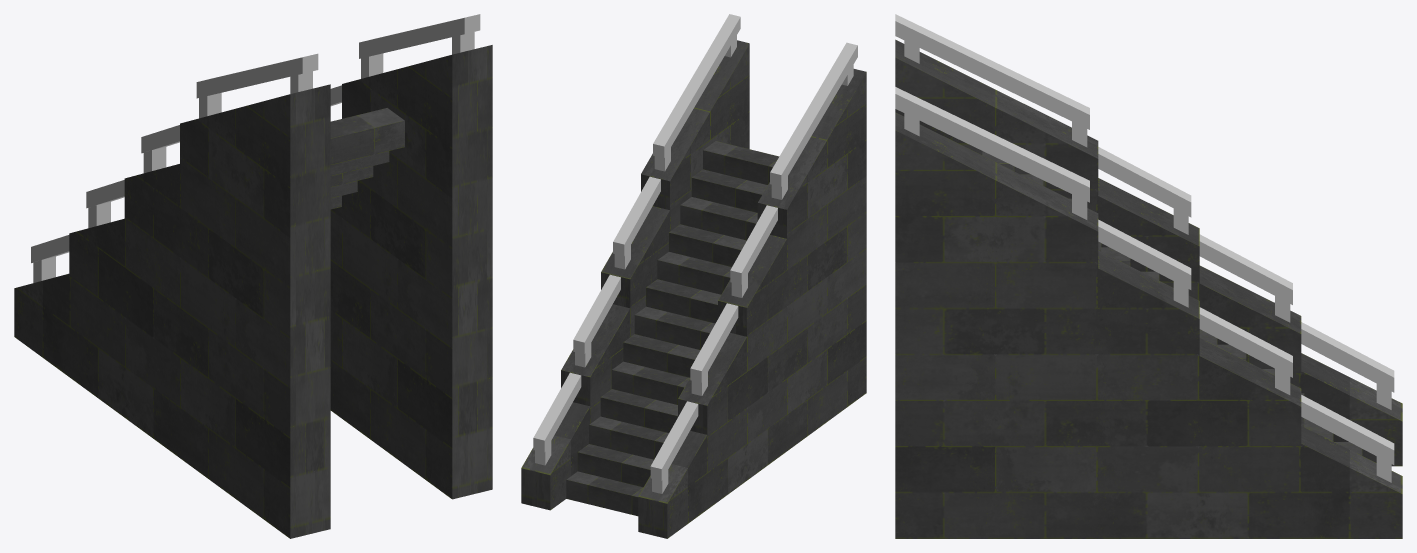
File: Stairs.fbx
The picture shows the model from 3 angles, left to right: view 1: azimuth 30°, elevation 25°; view 2: azimuth 150°, elevation 25°; view 3: azimuth 270°, elevation 25°; orthographic projection. The views are drawn at different scales.
Parts seen in each view (by area): view 1: Cube.004, Cube.005, Cube.003; view 2: Cube.004, Cube.003, Cube.005; view 3: Cube.004, Cube.005, Cube.003.
Part boxes in pixels (x1=…): Cube.004: x1=14, y1=45, x2=492, y2=538; Cube.005: x1=31, y1=14, x2=480, y2=282; Cube.003: x1=330, y1=108, x2=404, y2=209; Cube.004: x1=521, y1=40, x2=866, y2=538; Cube.003: x1=566, y1=141, x2=779, y2=516; Cube.005: x1=533, y1=14, x2=857, y2=493; Cube.004: x1=895, y1=39, x2=1402, y2=538; Cube.005: x1=895, y1=14, x2=1394, y2=482; Cube.003: x1=982, y1=151, x2=1362, y2=455.
Bounding box in the file's own units: 200 × 452 × 472.
